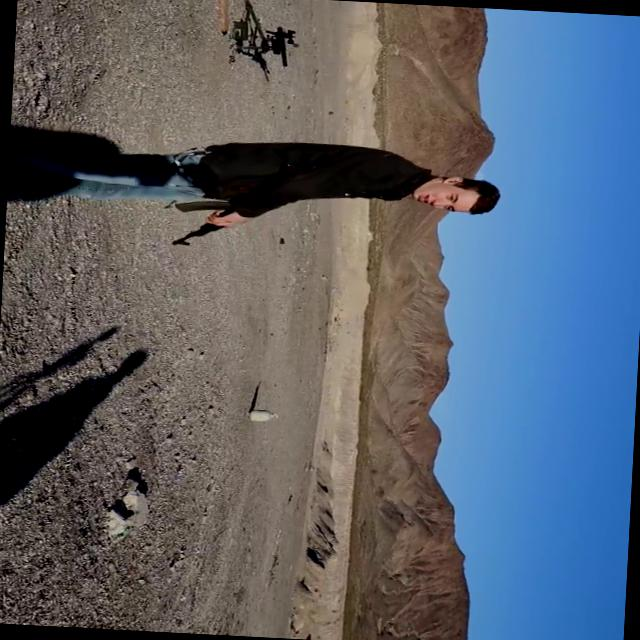long weapon: (161, 156, 318, 265), (244, 21, 318, 72)
